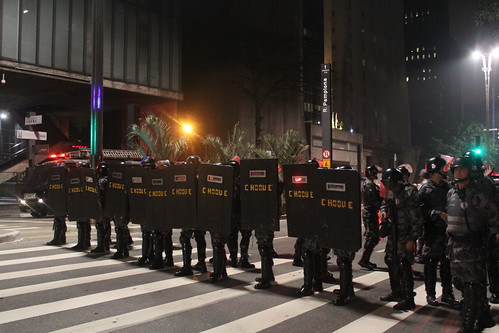building: (1, 1, 182, 158), (186, 1, 317, 153), (317, 1, 410, 159)
crosswalk: (3, 236, 495, 333)
policeman: (450, 156, 499, 333), (238, 151, 288, 287), (375, 167, 422, 300), (284, 158, 328, 298), (419, 154, 457, 311), (196, 160, 240, 283), (326, 164, 362, 304), (145, 157, 174, 281), (129, 150, 158, 262), (173, 161, 200, 272), (102, 155, 127, 265)
